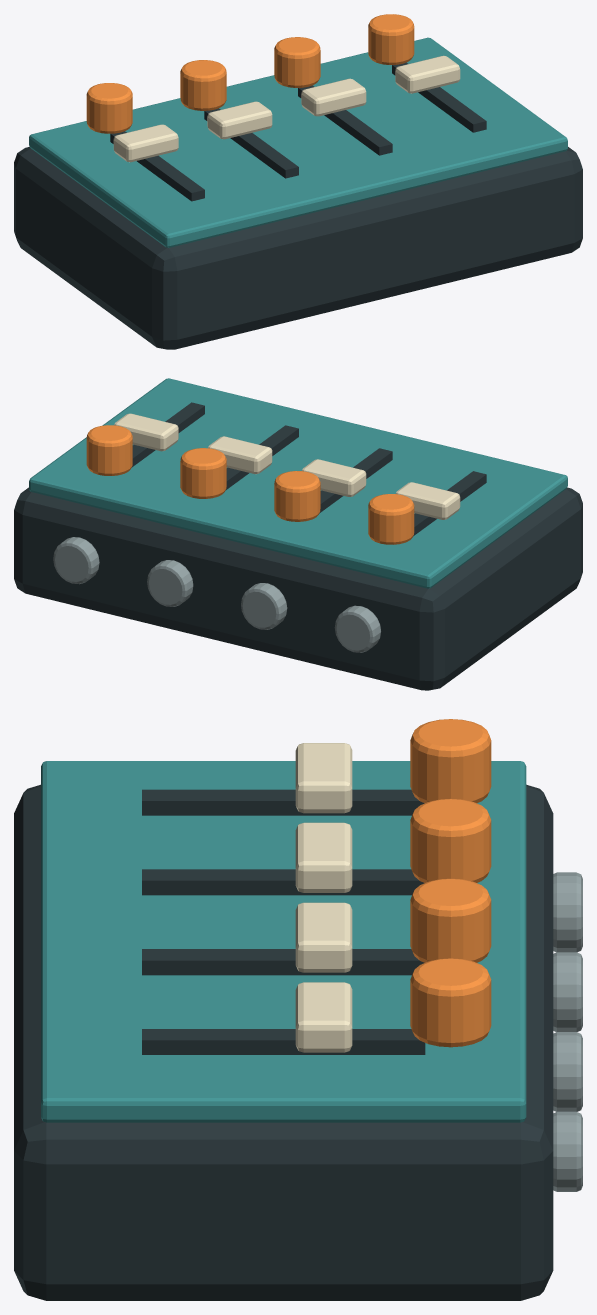
The model's file is P061_field_mixer.glb.
The picture shows the model from 3 angles, top to bottom: view 1: azimuth 30°, elevation 25°; view 2: azimuth 150°, elevation 25°; view 3: azimuth 270°, elevation 25°; orthographic projection. The views are drawn at different scales.
Visible parts, largest first — view 1: P061_body_001, P061_top_002, P061_knob_009, P061_knob_013, P061_knob_005, P061_knob_017, P061_fader_008, P061_fader_012, P061_fader_004, P061_fader_016, P061_fader_slot_015, P061_fader_slot_007 (+2 smaller); view 2: P061_body_001, P061_top_002, P061_knob_009, P061_knob_013, P061_knob_005, P061_knob_017, P061_input_006, P061_input_014, P061_input_018, P061_input_010, P061_fader_012, P061_fader_016 (+6 smaller); view 3: P061_top_002, P061_body_001, P061_knob_017, P061_knob_005, P061_knob_013, P061_knob_009, P061_fader_slot_011, P061_fader_slot_007, P061_fader_slot_003, P061_fader_slot_015, P061_fader_012, P061_fader_008 (+6 smaller).
Part boxes in pixels (bbox=[...]): P061_body_001: bbox=[14, 147, 582, 349]; P061_top_002: bbox=[29, 37, 567, 247]; P061_knob_009: bbox=[180, 60, 226, 110]; P061_knob_013: bbox=[274, 37, 320, 87]; P061_knob_005: bbox=[86, 83, 132, 133]; P061_knob_017: bbox=[368, 14, 414, 64]; P061_fader_008: bbox=[207, 101, 272, 139]; P061_fader_012: bbox=[301, 78, 366, 116]; P061_fader_004: bbox=[113, 124, 178, 162]; P061_fader_016: bbox=[395, 55, 460, 93]; P061_fader_slot_015: bbox=[392, 62, 486, 132]; P061_fader_slot_007: bbox=[204, 108, 298, 178]; P061_body_001: bbox=[14, 487, 582, 690]; P061_top_002: bbox=[29, 378, 567, 588]; P061_knob_009: bbox=[274, 471, 320, 521]; P061_knob_013: bbox=[180, 448, 226, 498]; P061_knob_005: bbox=[368, 494, 414, 544]; P061_knob_017: bbox=[86, 425, 132, 475]; P061_input_006: bbox=[334, 605, 380, 652]; P061_input_014: bbox=[147, 560, 193, 606]; P061_input_018: bbox=[53, 537, 99, 584]; P061_input_010: bbox=[241, 583, 287, 629]; P061_fader_012: bbox=[208, 436, 272, 474]; P061_fader_016: bbox=[114, 413, 178, 451]; P061_top_002: bbox=[41, 761, 526, 1122]; P061_body_001: bbox=[14, 784, 553, 1300]; P061_knob_017: bbox=[410, 958, 491, 1047]; P061_knob_005: bbox=[410, 719, 491, 803]; P061_knob_013: bbox=[410, 878, 491, 962]; P061_knob_009: bbox=[410, 798, 491, 882]; P061_fader_slot_011: bbox=[142, 949, 424, 975]; P061_fader_slot_007: bbox=[142, 869, 424, 895]; P061_fader_slot_003: bbox=[142, 789, 424, 815]; P061_fader_slot_015: bbox=[142, 1029, 425, 1054]; P061_fader_012: bbox=[295, 902, 352, 972]; P061_fader_008: bbox=[295, 822, 352, 892].
Bounding box in the file's own units: 0.32 × 0.114 × 0.211.
